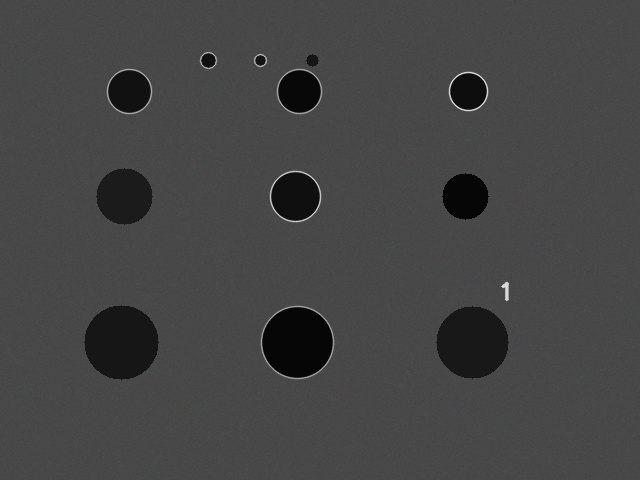hole: (84, 305, 158, 379), (261, 306, 333, 378), (436, 306, 508, 378), (96, 168, 152, 224), (270, 171, 320, 221), (442, 173, 488, 219), (107, 69, 151, 113), (277, 69, 321, 113), (449, 72, 487, 110), (200, 52, 216, 68), (254, 54, 266, 66), (306, 54, 318, 66)
